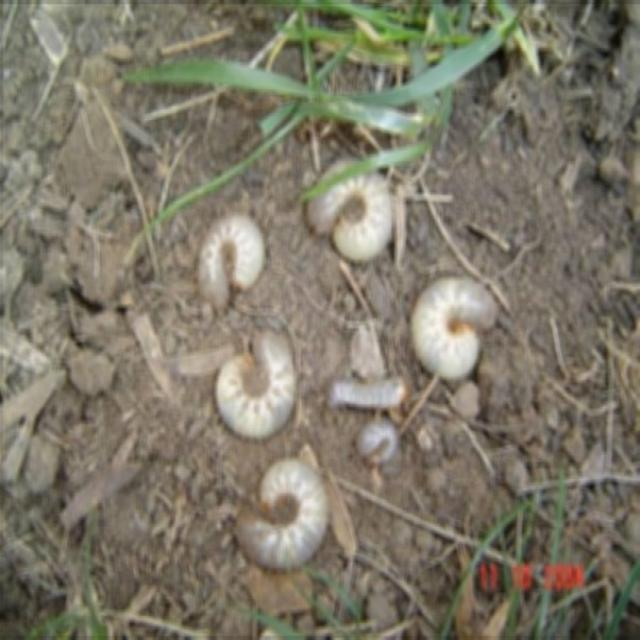grub: (305, 160, 406, 274), (235, 455, 334, 567), (214, 325, 309, 437), (411, 273, 501, 387), (194, 219, 272, 314), (327, 373, 417, 406), (355, 414, 395, 472)
